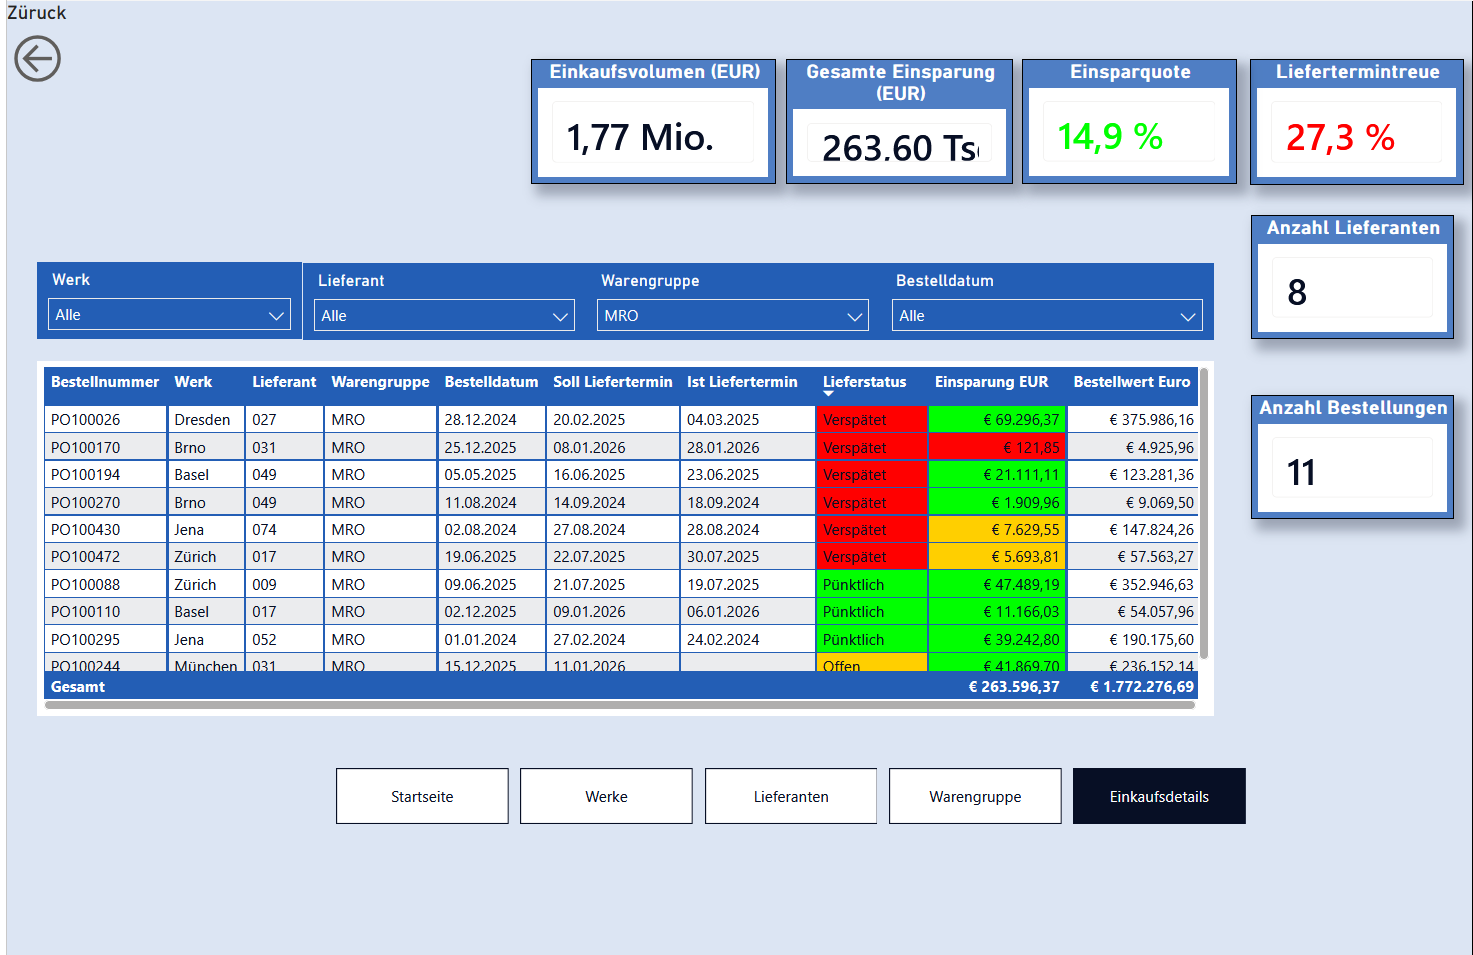

The dashboard page shown, as its layout file describes it:
{"tool":"powerbi","page":{"name":"Einkaufsdetails","canvas":[1280,720],"ordinal":4},"visuals":[{"type":"cardVisual","title":"Liefertermintreue","fields":{"Data":["Einkaufsdaten.Liefertermintreue"]},"box":[1086.4,50.6,186.7,109.9],"z":1000},{"type":"cardVisual","title":"Einkaufsvolumen (EUR)","fields":{"Data":["Einkaufsdaten.Gesamt Einkaufsvolumen EUR"]},"box":[458.2,50.9,213.6,109.1],"z":2000},{"type":"cardVisual","title":"Gesamte Einsparung (EUR)","fields":{"Data":["Einkaufsdaten.Gesamte Einsparung"]},"box":[680.9,50.6,198.4,108.9],"z":3000},{"type":"cardVisual","title":"Einsparquote","fields":{"Data":["Einkaufsdaten.Einsparquote"]},"box":[887.1,50.6,187.7,108.9],"z":4000},{"type":"tableEx","fields":{"Values":["Einkaufsdaten.Bestellnummer","Einkaufsdaten.Werk","Einkaufsdaten.Lieferant","Einkaufsdaten.Warengruppe","Einkaufsdaten.Bestelldatum","Einkaufsdaten.Soll_Liefertermin","Einkaufsdaten.Ist_Liefertermin","Einkaufsdaten.Lieferstatus","Sum(Einkaufsdaten.Einsparung EUR)","Sum(Einkaufsdaten.Bestellwert Euro)"]},"box":[26.1,314.7,1028.8,309.7],"z":5000},{"type":"slicer","fields":{"Values":["Einkaufsdaten.Werk"]},"box":[26.4,228.2,231.8,67.3],"z":6000},{"type":"slicer","fields":{"Values":["Einkaufsdaten.Lieferant"]},"box":[258.7,228.9,247.5,67.2],"z":7000},{"type":"slicer","fields":{"Values":["Einkaufsdaten.Warengruppe"]},"box":[506.3,228.9,257.5,67.2],"z":8000},{"type":"slicer","fields":{"Values":["Einkaufsdaten.Bestelldatum"]},"box":[763.8,228.9,291.1,67.2],"z":9000},{"type":"actionButton","title":"Züruck","box":[0,0,100,76.7],"z":10000},{"type":"pageNavigator","box":[287.4,670.2,799.9,49.8],"z":11000},{"type":"cardVisual","title":"Anzahl Lieferanten","fields":{"Data":["Einkaufsdaten.Anzahl Lieferanten"]},"box":[1086.8,186.6,177,108.4],"z":12000},{"type":"cardVisual","title":"Anzahl Bestellungen","fields":{"Data":["Einkaufsdaten.Anzahl Bestellungen"]},"box":[1086.8,344.4,177,108.4],"z":13000}]}

Visuals, with their boxes in screenshot pixels (x1, y1, x2, y2):
"Liefertermintreue" cardVisual: (1244,57,1456,182)
"Einkaufsvolumen (EUR)" cardVisual: (532,58,774,182)
"Gesamte Einsparung (EUR)" cardVisual: (784,57,1009,181)
"Einsparquote" cardVisual: (1018,57,1231,181)
tableEx - Einkaufsdaten.Bestellnummer x Einkaufsdaten.Werk: (41,357,1209,709)
slicer - Einkaufsdaten.Werk: (41,259,305,335)
slicer - Einkaufsdaten.Lieferant: (305,260,586,336)
slicer - Einkaufsdaten.Warengruppe: (586,260,878,336)
slicer - Einkaufsdaten.Bestelldatum: (878,260,1209,336)
"Züruck" actionButton: (12,0,125,87)
pageNavigator: (338,761,1245,817)
"Anzahl Lieferanten" cardVisual: (1245,212,1446,335)
"Anzahl Bestellungen" cardVisual: (1245,391,1446,514)
